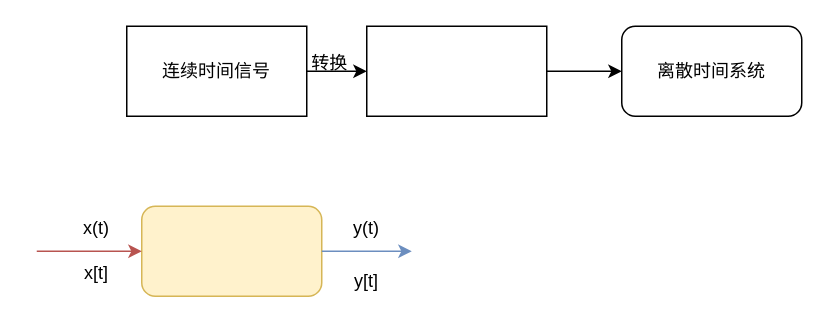
The diagram is 828 pixels wide and 330 high, and some of its shapes have lost their labels. Each missing label, with the centre of its shape:
"system" goes at [231,250].
"离散时间信号" goes at [456,70].
